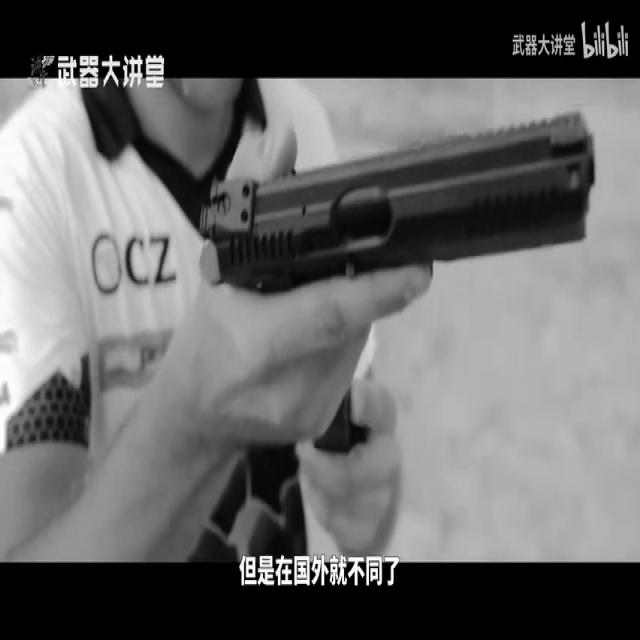Hand-Gun: (199, 111, 608, 292)
